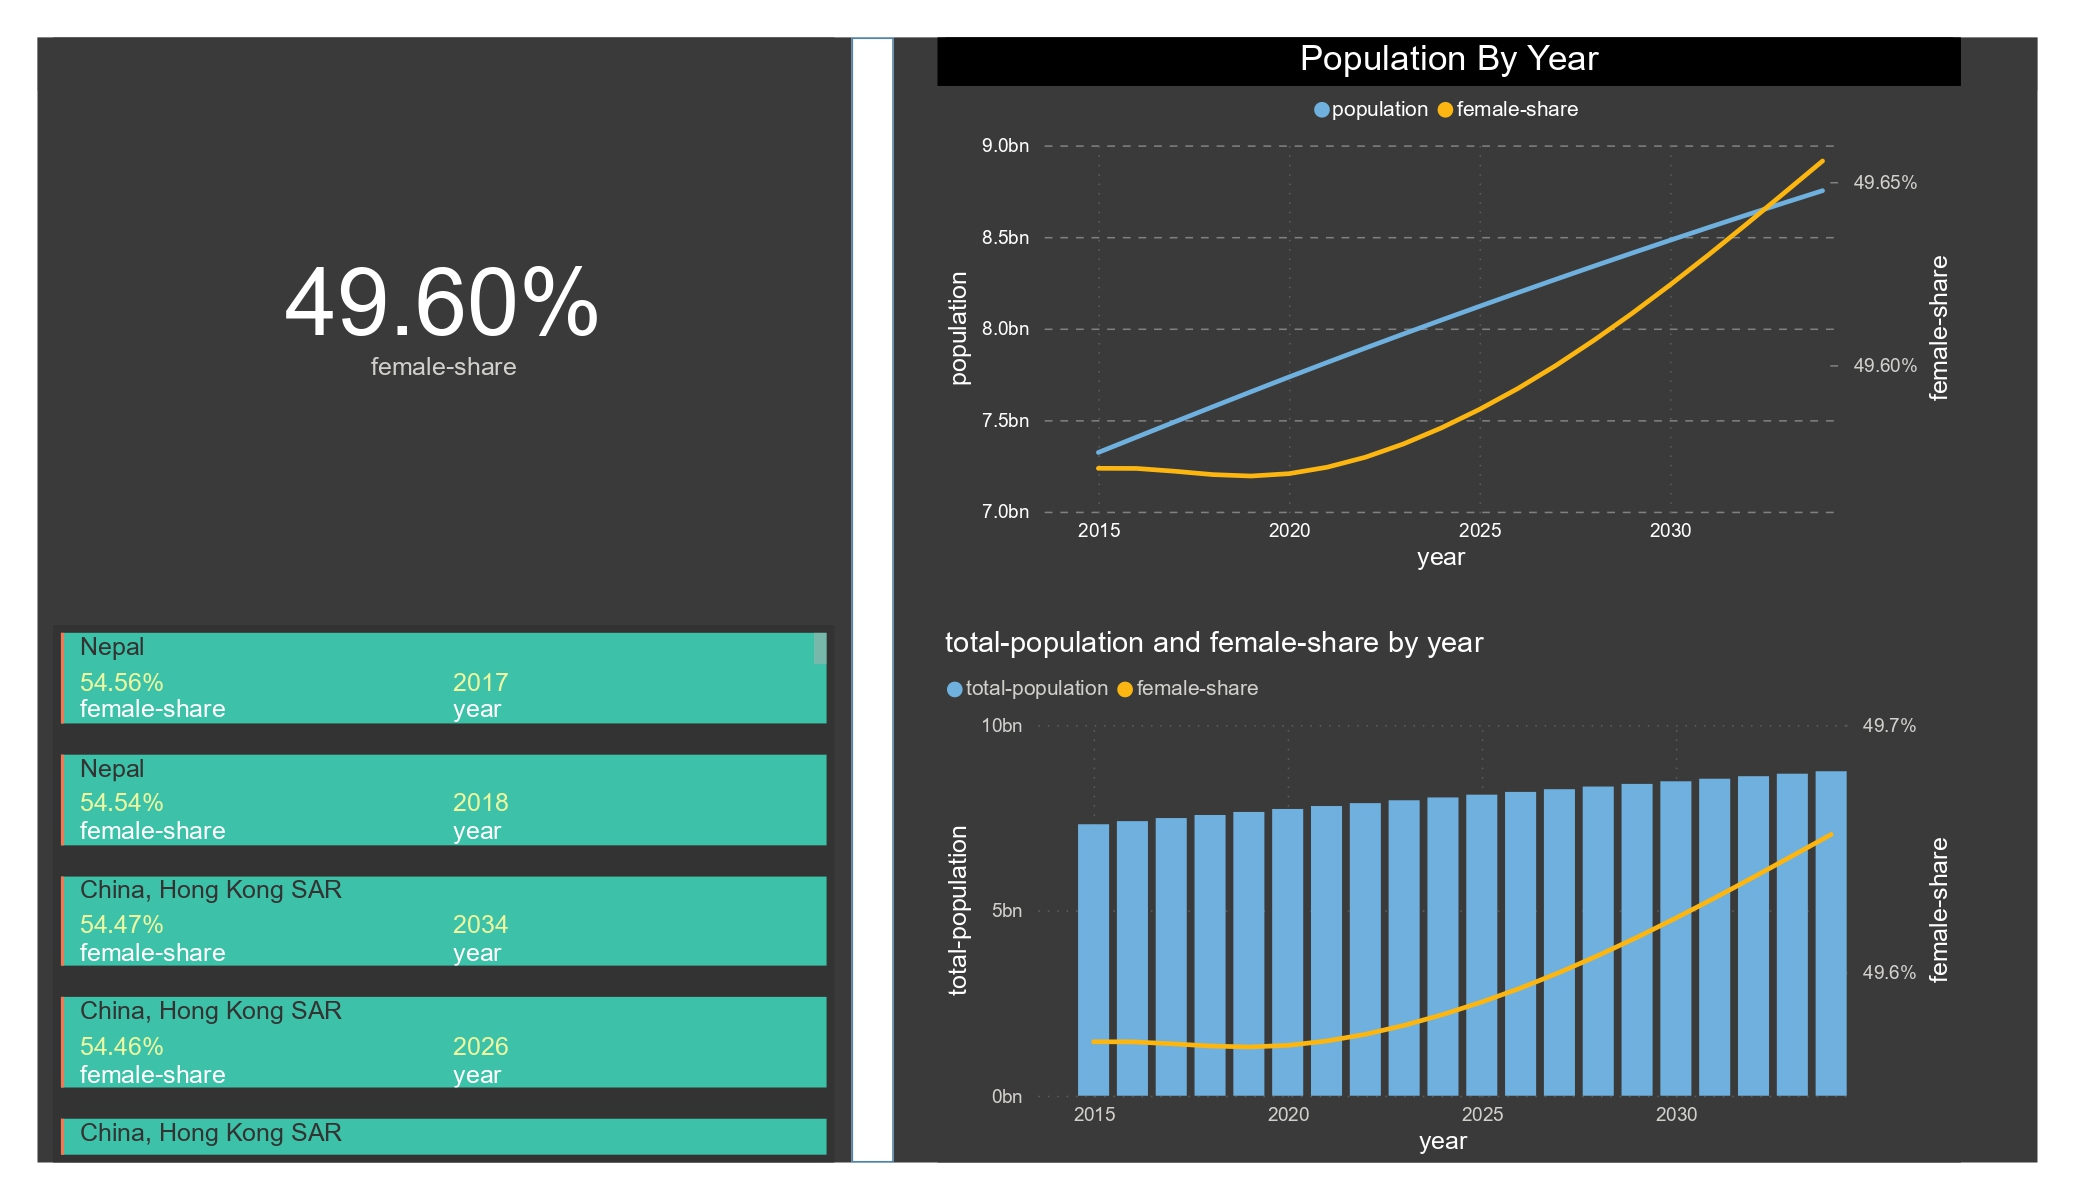

What the dashboard file says about the page in this screenshot:
{"tool":"powerbi","page":{"name":"Cards & More","canvas":[1280,720],"ordinal":4},"visuals":[{"type":"card","fields":{"Values":["FACT-population.female-share"]},"box":[9.6,0,500.9,345.8],"z":0},{"type":"multiRowCard","fields":{"Values":["FACT-population.female-share","FACT-population.year","DIM-region.country"]},"box":[9.6,376,500.9,344.4],"z":1000},{"type":"shape","box":[521.4,0,26.1,720.4],"z":2000},{"type":"lineChart","title":"Population By Year","fields":{"Category":["FACT-population.year"],"Y":["Sum(FACT-population.population)"],"Y2":["FACT-population.female-share"]},"box":[576.3,0,654.5,345.8],"z":3000},{"type":"lineStackedColumnComboChart","fields":{"Category":["FACT-population.year"],"Y":["FACT-population.total-population"],"Y2":["FACT-population.female-share"]},"box":[576.3,376,654.5,344.4],"z":3001}]}

Visuals, with their boxes on the page's 1280x720 design canvas (x1, y1, x2, y2). These are canvas units, not pixel positions in the 2075x1200 screenshot, which may show the page scaled, cropped or inside an application window:
card - FACT-population.female-share: bbox=[10, 0, 510, 346]
multiRowCard - FACT-population.female-share x FACT-population.year: bbox=[10, 376, 510, 720]
shape: bbox=[521, 0, 548, 720]
"Population By Year" lineChart: bbox=[576, 0, 1231, 346]
lineStackedColumnComboChart - FACT-population.year x FACT-population.total-population: bbox=[576, 376, 1231, 720]
